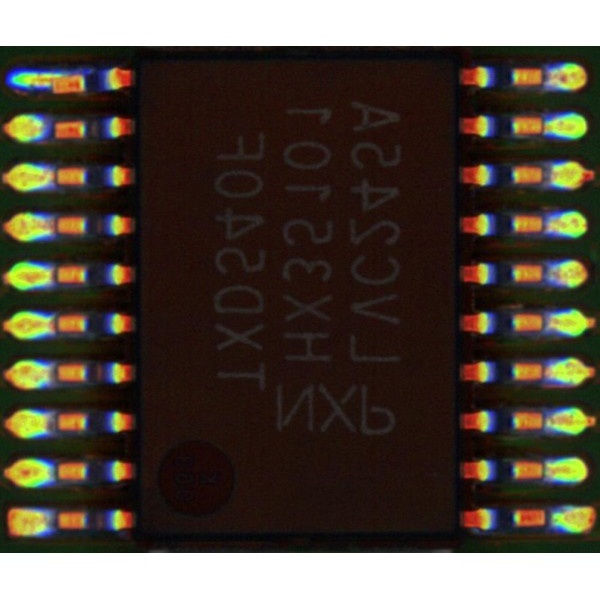Bad_podu: (42, 74, 64, 86)
